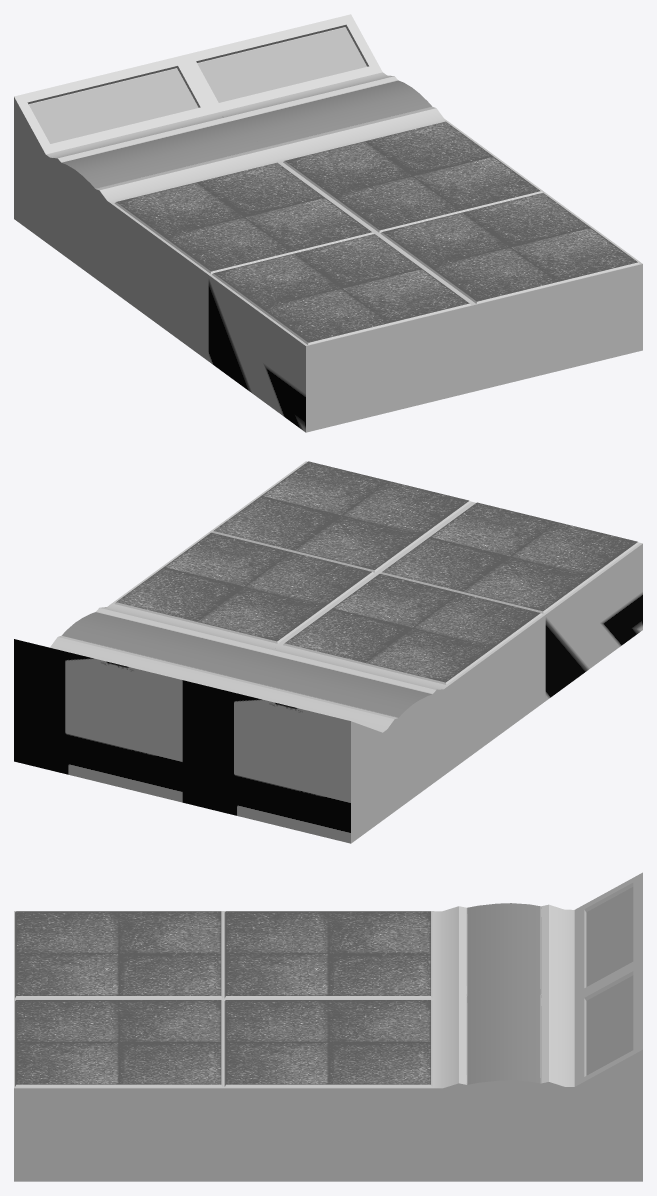
File: WallDoorway_4.fbx
3 views of the same model, one above another, from view 1: azimuth 30°, elevation 25°; view 2: azimuth 150°, elevation 25°; view 3: azimuth 270°, elevation 25° (orthographic). The views are drawn at different scales.
Parts seen in each view (by area): view 1: WallDoorway_4; view 2: WallDoorway_4; view 3: WallDoorway_4.
Part boxes in pixels (bbox=[...]): WallDoorway_4: bbox=[14, 14, 642, 432]; WallDoorway_4: bbox=[14, 461, 642, 843]; WallDoorway_4: bbox=[14, 872, 642, 1181].
Bounding box in the file's own units: 2 × 0.6947 × 3.
